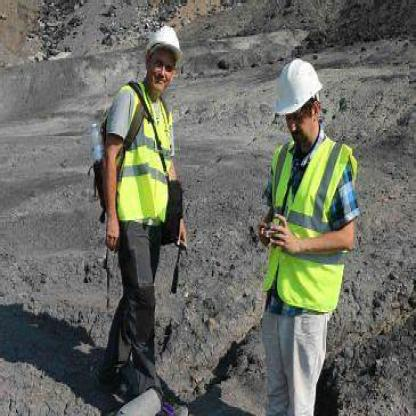person: (248, 60, 362, 413), (86, 23, 176, 404)
